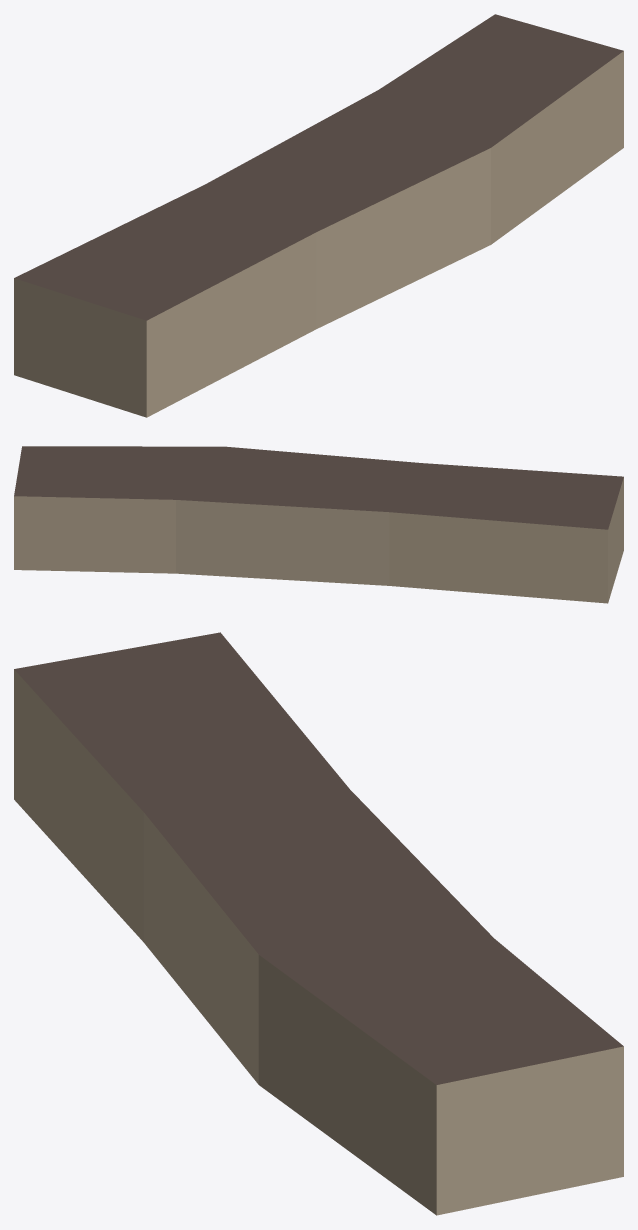
3 views of the same model, one above another, from view 1: azimuth 30°, elevation 25°; view 2: azimuth 150°, elevation 25°; view 3: azimuth 270°, elevation 25° (orthographic). The views are drawn at different scales.
Visible parts, largest first — view 1: HP-w1287260199; view 2: HP-w1287260199; view 3: HP-w1287260199.
Boxes of the visible parts, box(x1,y1,x2,y2) form: HP-w1287260199: box(14, 14, 623, 417); HP-w1287260199: box(14, 446, 623, 603); HP-w1287260199: box(14, 632, 623, 1215).
Size of the model in its own units: 67 by 9 by 38.15.
